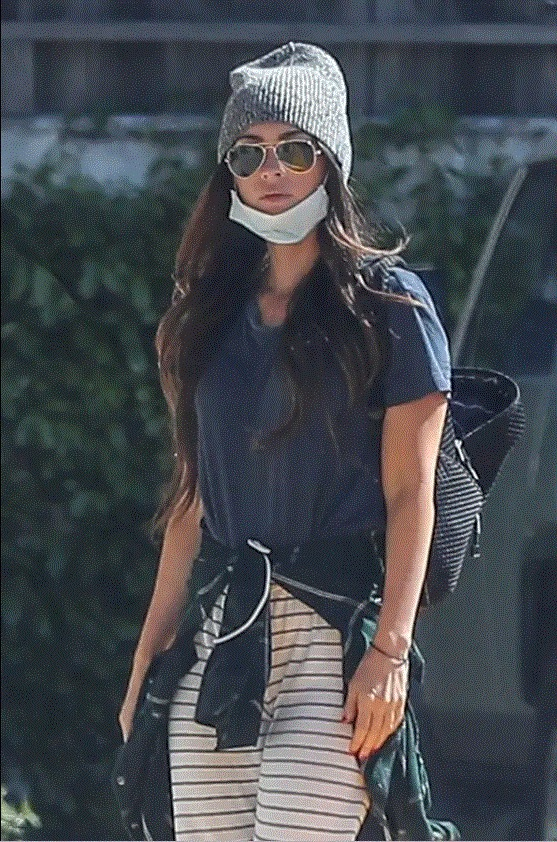mask_weared_incorrect: (227, 139, 327, 230)
